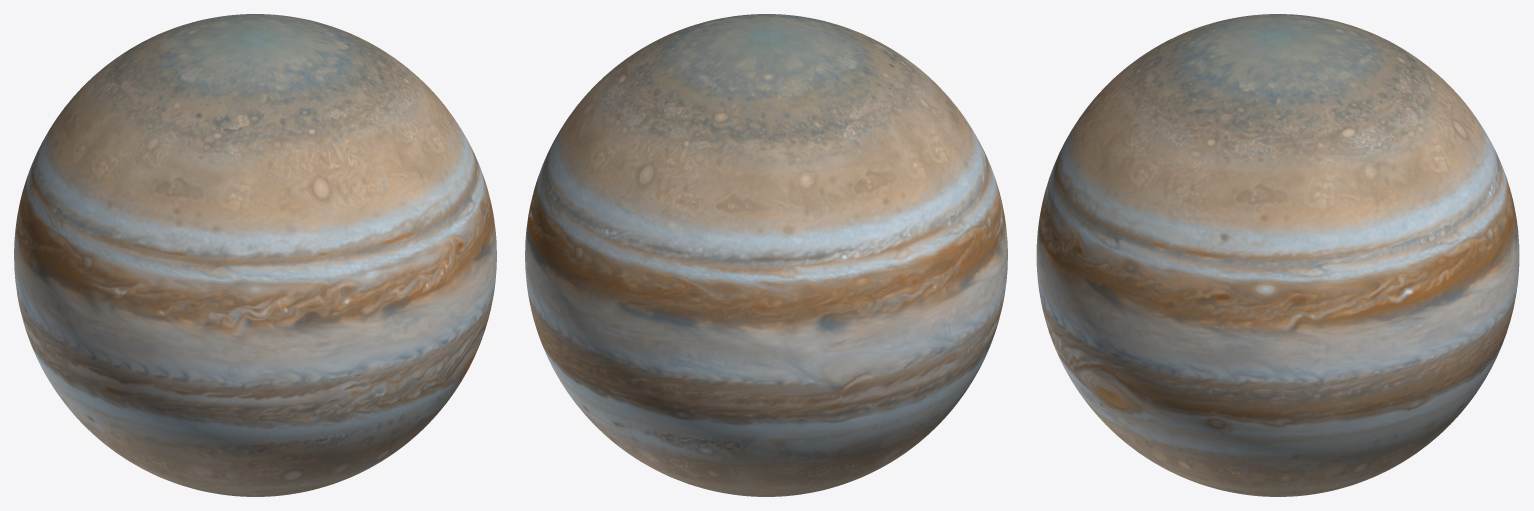
File: jupiter-real-8k.glb
3 renders of one model, left to right at view 1: azimuth 30°, elevation 25°; view 2: azimuth 150°, elevation 25°; view 3: azimuth 270°, elevation 25°, orthographic.
Parts seen in each view (by area): view 1: Sphere.001; view 2: Sphere.001; view 3: Sphere.001.
Boxes of the visible parts, x1,y1,x2,y2 form: Sphere.001: [14, 14, 496, 496]; Sphere.001: [525, 14, 1007, 496]; Sphere.001: [1036, 14, 1519, 496].
Size of the model in its own units: 0.6902 by 0.6902 by 0.6902.
1 material, 1 textured.
